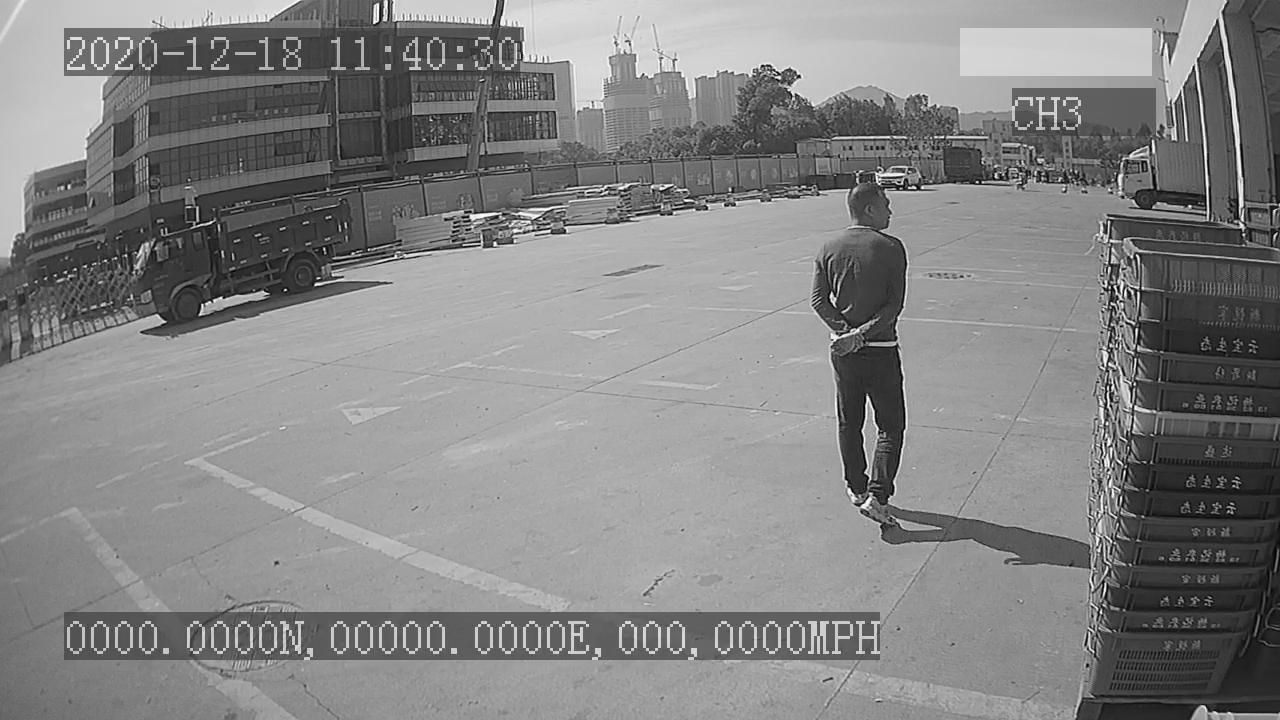person: (804, 184, 918, 528)
